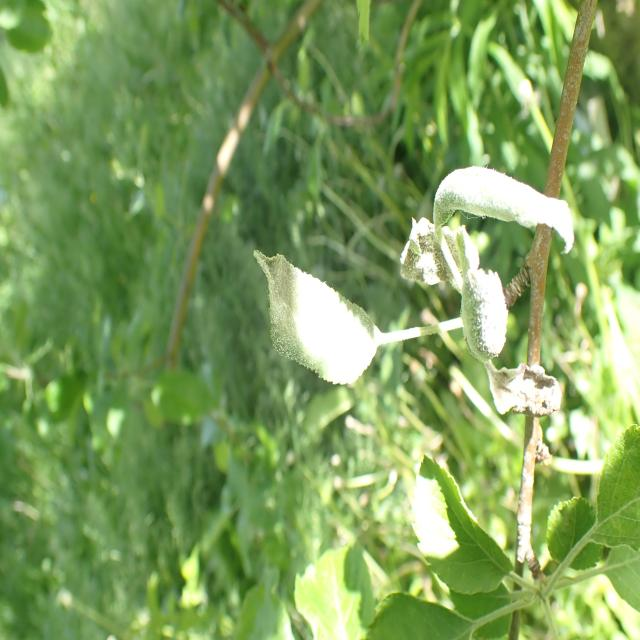Powdery_mildew: (402, 126, 578, 385), (232, 232, 388, 406)
